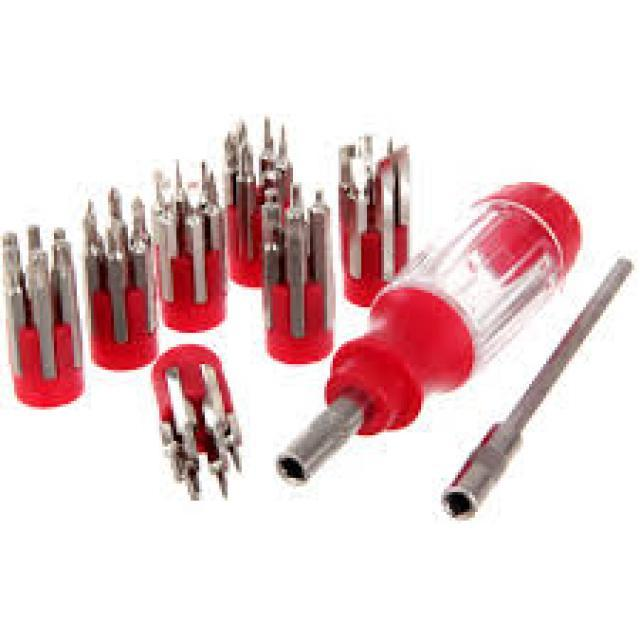screwdriver: (281, 161, 595, 494)
